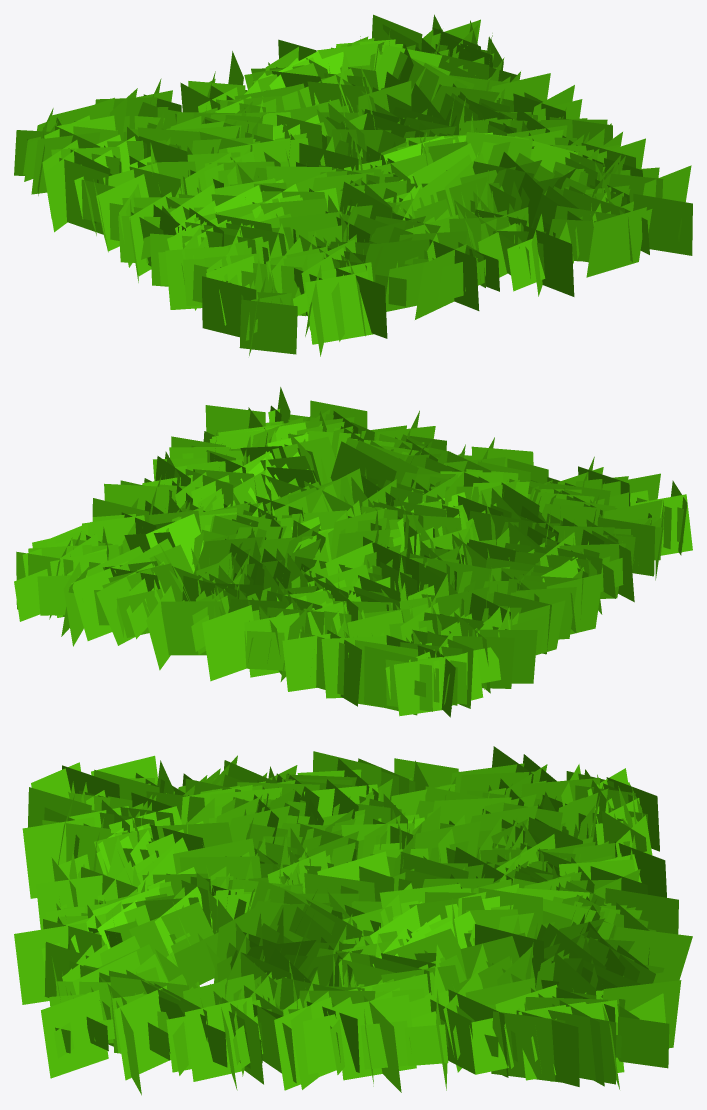
Rendered from GRASS.fbx.
The picture shows the model from 3 angles, top to bottom: view 1: azimuth 30°, elevation 25°; view 2: azimuth 150°, elevation 25°; view 3: azimuth 270°, elevation 25°; orthographic projection. The views are drawn at different scales.
Visible parts, largest first — view 1: Plane.1002; view 2: Plane.1002; view 3: Plane.1002.
Part boxes in pixels (x1,y1,x2,y2): Plane.1002: (14, 14, 692, 356); Plane.1002: (14, 387, 692, 717); Plane.1002: (14, 746, 692, 1095).
Size of the model in its own units: 409 by 77.55 by 412.
